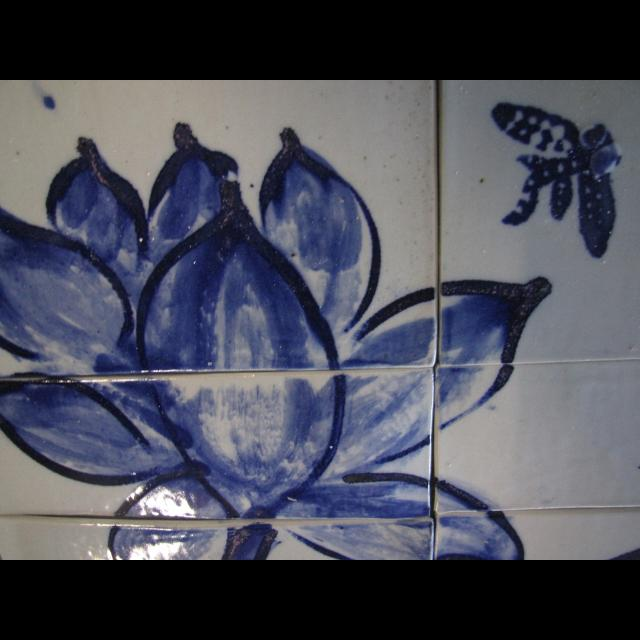Flower: (1, 120, 554, 560)
